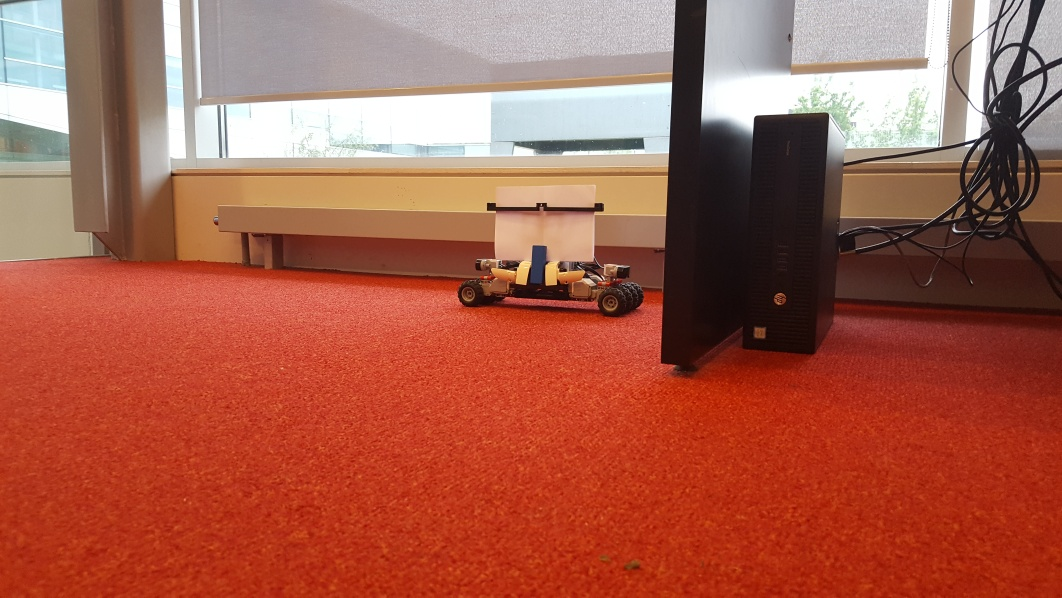car: (457, 186, 645, 318)
